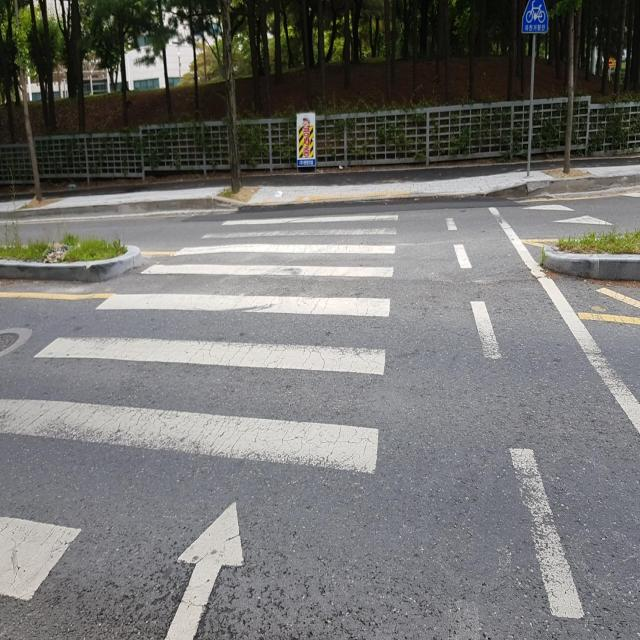횡단보도: (0, 210, 400, 640)
